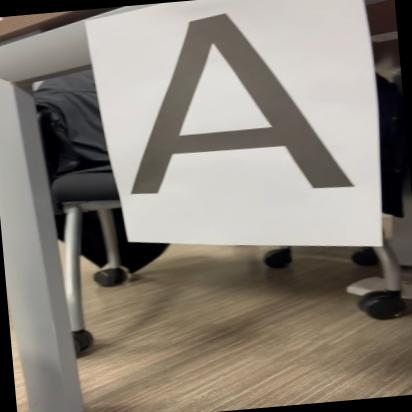seat: (104, 1, 362, 204)
